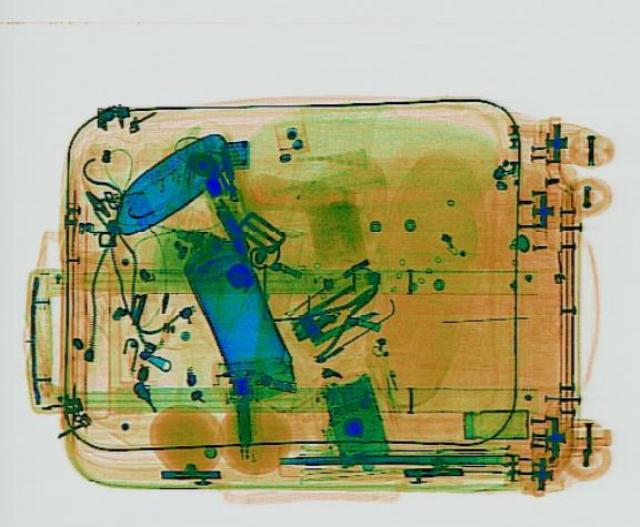Pliers: (278, 271, 396, 360)
